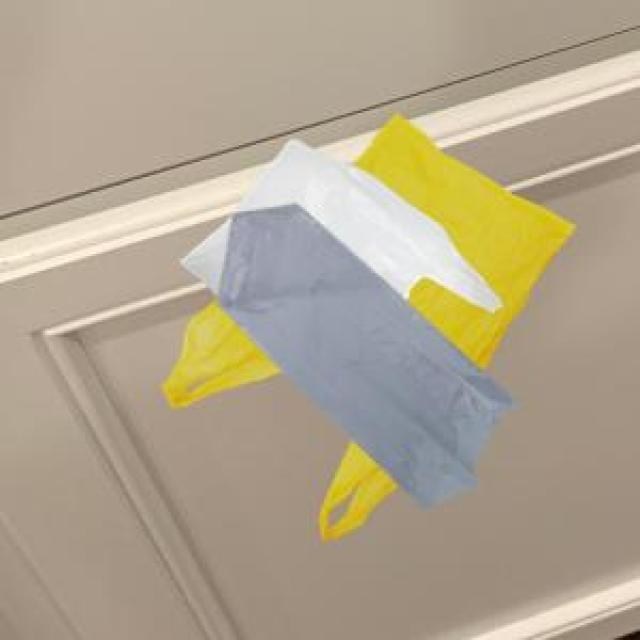waste: (162, 116, 575, 539)
